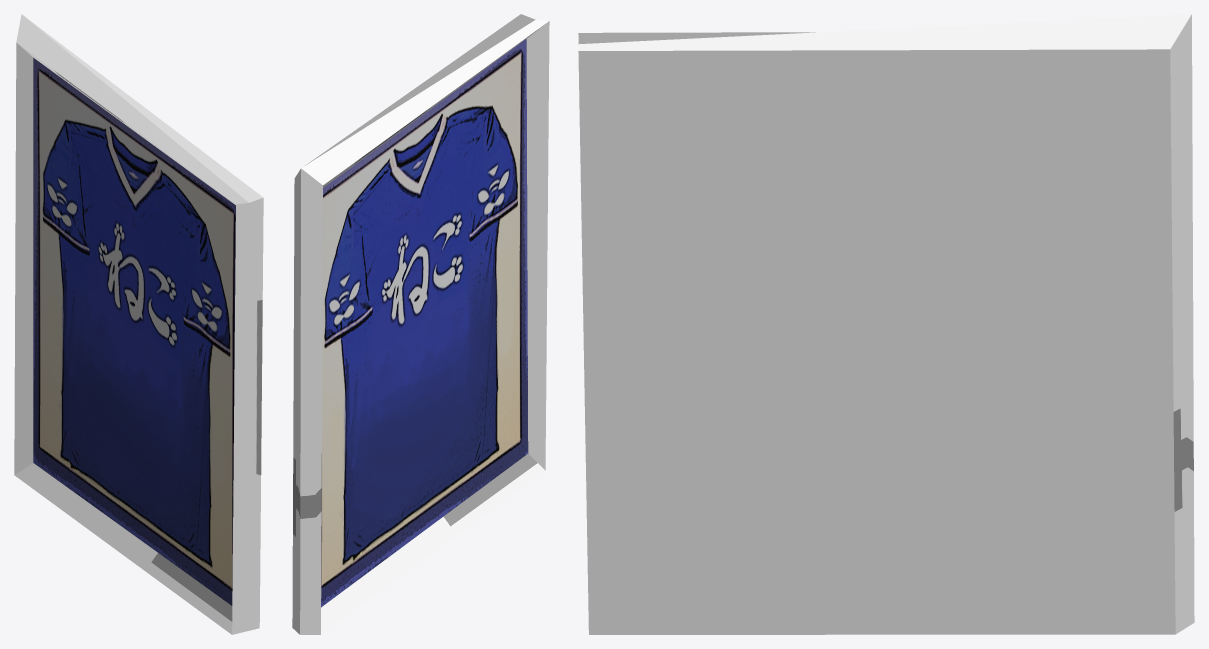
The model's file is blueShirtframed.FBX.
3 renders of one model, left to right at view 1: azimuth 30°, elevation 25°; view 2: azimuth 150°, elevation 25°; view 3: azimuth 270°, elevation 25°, orthographic. The views are drawn at different scales.
Parts seen in each view (by area): view 1: frame_R004; view 2: frame_R004; view 3: frame_R004.
Part boxes in pixels (x1,y1,x2,y2): frame_R004: (14,14,263,634); frame_R004: (292,14,549,634); frame_R004: (578,14,1194,634).
Bounding box in the file's own units: 3.83 × 59.96 × 54.74.
Materials: 1 (1 with a texture image).
